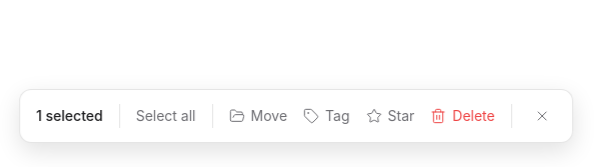
SelectionToolbar › Tag button shows tag dropdown
The width and height of the screenshot is (594, 167).
Click the button "Tag" at (326, 116), box [303,106,350,126]
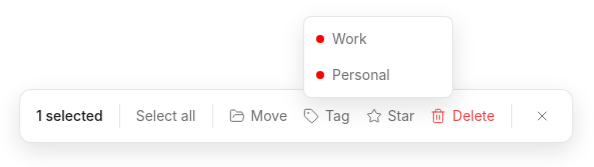
Expected: the button "Work" is shown, [304,21,452,57]
Expected: the button "Personal" is shown, [304,57,452,93]
